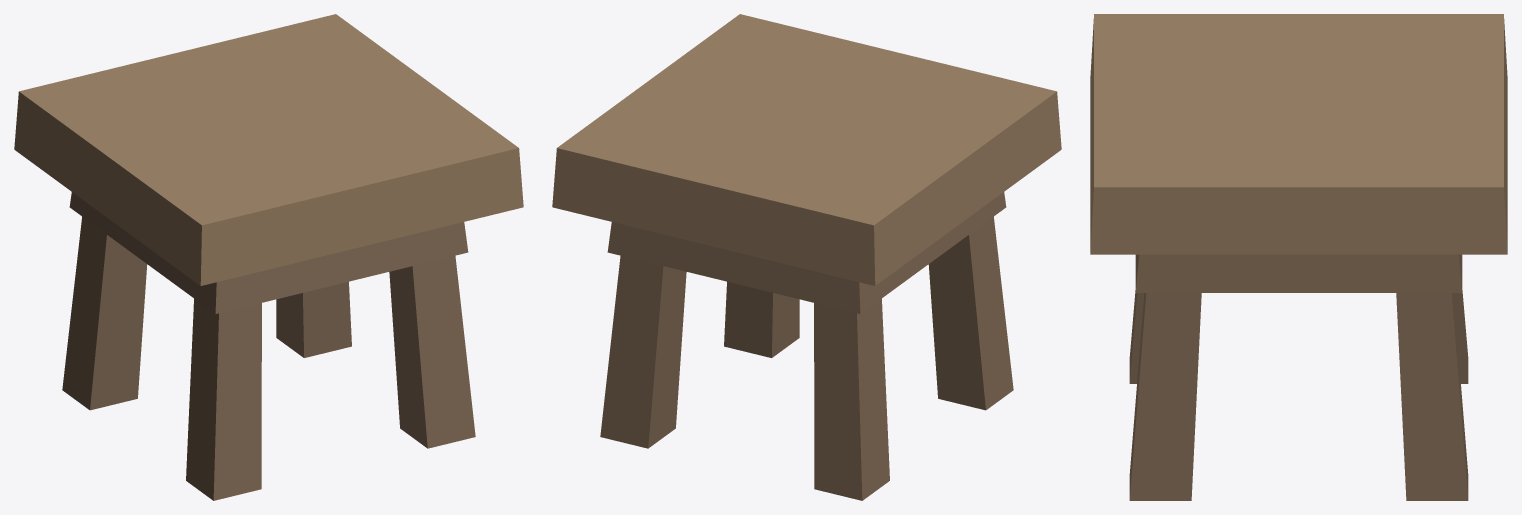
The model's file is table_small.glb.
3 views of the same model, side by side, from view 1: azimuth 30°, elevation 25°; view 2: azimuth 150°, elevation 25°; view 3: azimuth 270°, elevation 25° (orthographic). The views are drawn at different scales.
Visible parts, largest first — view 1: part_4, part_1, part_3, part_0, part_5, part_2; view 2: part_4, part_0, part_2, part_1, part_5, part_3; view 3: part_4, part_5, part_2, part_3, part_0, part_1.
Boxes of the visible parts, x1,y1,x2,y2 form: part_4: (14, 14, 523, 285); part_1: (186, 298, 261, 500); part_3: (389, 256, 475, 448); part_0: (62, 216, 147, 410); part_5: (69, 192, 468, 313); part_2: (276, 281, 351, 357); part_4: (552, 14, 1061, 285); part_0: (814, 298, 889, 500); part_2: (600, 256, 686, 448); part_1: (928, 216, 1013, 410); part_5: (607, 192, 1006, 313); part_3: (724, 281, 799, 357); part_4: (1090, 14, 1507, 254); part_5: (1135, 254, 1462, 292); part_2: (1396, 293, 1468, 500); part_3: (1129, 293, 1201, 500); part_0: (1453, 290, 1468, 383); part_1: (1129, 290, 1144, 383).
Bounding box in the file's own units: 0.92 × 0.8 × 0.92.
